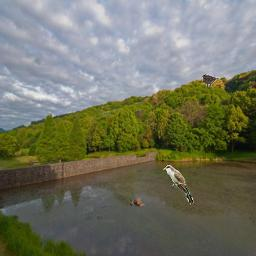Cuckoo: (163, 165, 194, 205)
Sparrow: (202, 74, 219, 88)
